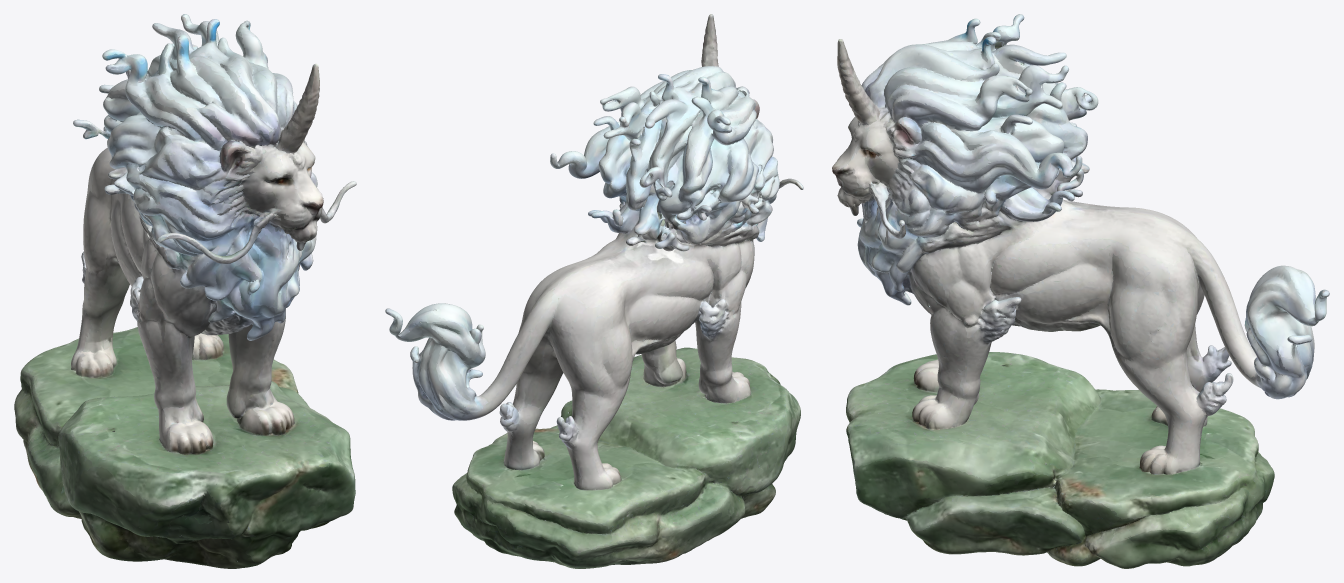
Rendered from baize-beast.glb.
3 views of the same model, side by side, from view 1: azimuth 30°, elevation 25°; view 2: azimuth 150°, elevation 25°; view 3: azimuth 270°, elevation 25° (orthographic). The views are drawn at different scales.
Parts seen in each view (by area): view 1: geometry_0; view 2: geometry_0; view 3: geometry_0.
Part boxes in pixels (x1=…): geometry_0: x1=14, y1=14, x2=356, y2=568; geometry_0: x1=385, y1=14, x2=803, y2=568; geometry_0: x1=832, y1=14, x2=1329, y2=568.
Size of the model in its own units: 0.2319 by 0.38 by 0.3517.
Materials: 1 (1 with a texture image).
